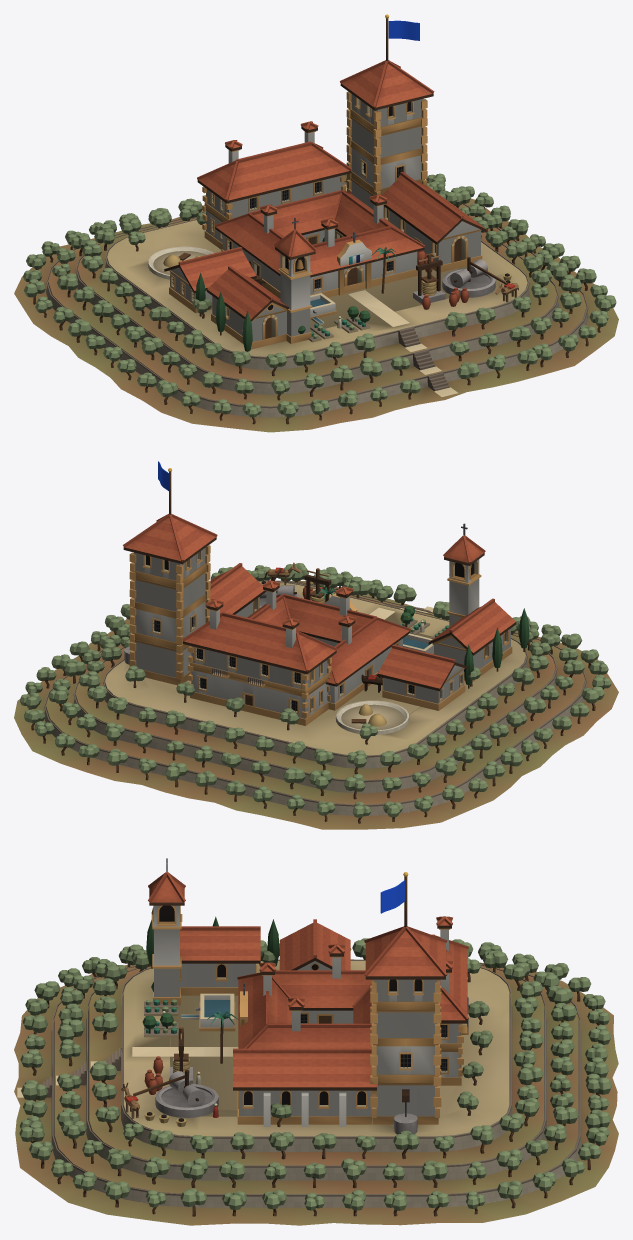
File: lm_zeytinlik.glb
The picture shows the model from 3 angles, top to bottom: view 1: azimuth 30°, elevation 25°; view 2: azimuth 150°, elevation 25°; view 3: azimuth 270°, elevation 25°; orthographic projection. The views are drawn at different scales.
Visible parts, largest first — view 1: lm_zeytinlik; view 2: lm_zeytinlik; view 3: lm_zeytinlik.
Part boxes in pixels (box(x1,y1,x2,y2)): lm_zeytinlik: box(14, 14, 618, 432); lm_zeytinlik: box(14, 461, 618, 829); lm_zeytinlik: box(14, 858, 618, 1225).
Size of the model in its own units: 2.2 by 1.08 by 2.1.
1 material, 1 textured.
